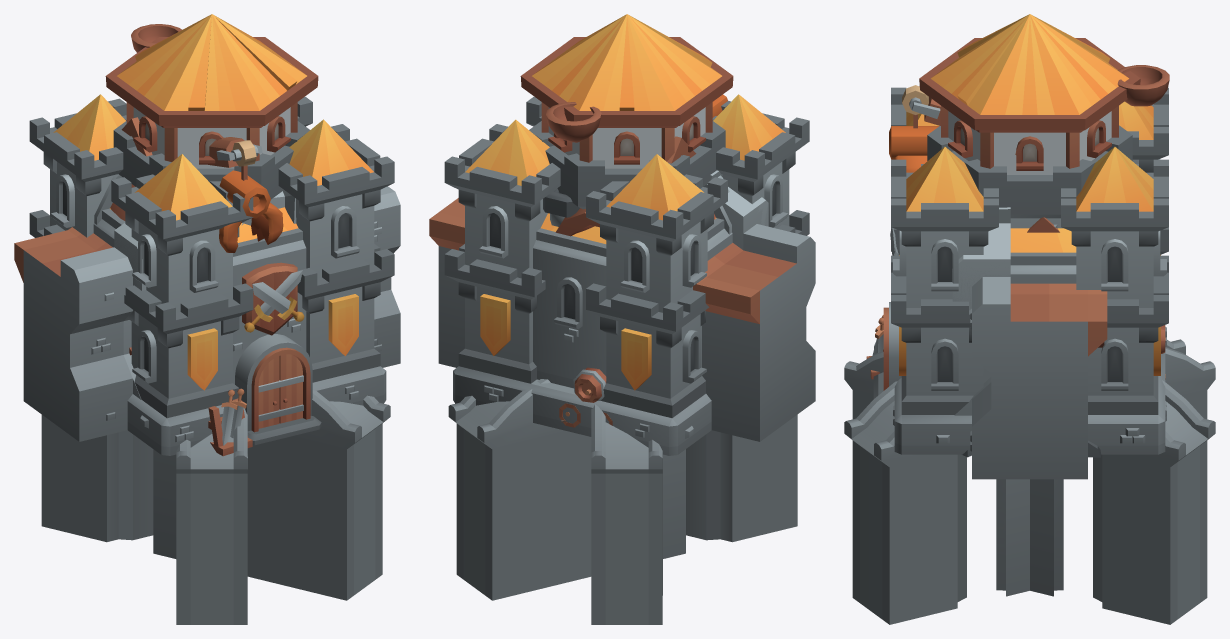
The model's file is buildings.glb.
3 renders of one model, left to right at view 1: azimuth 30°, elevation 25°; view 2: azimuth 150°, elevation 25°; view 3: azimuth 270°, elevation 25°, orthographic. The views are drawn at different scales.
Visible parts, largest first — view 1: building_barracks_yellow, building_bridge_A, building_tower_A_top_yellow, wall_straight_gate, building_bridge_B, wall_straight, building_lumbermill_top_yellow, building_tower_A_yellow, building_lumbermill_top_blue, catapult_arm_yellow, building_tavern_yellow; view 2: building_barracks_yellow, building_bridge_B, building_tower_A_top_yellow, wall_straight_gate, building_bridge_A, wall_straight, building_tower_A_yellow, building_tavern_yellow, catapult_arm_blue, building_home_B_yellow, building_lumbermill_top_blue, catapult_arm_yellow; view 3: building_barracks_yellow, building_bridge_A, building_bridge_B, wall_straight, building_tower_A_top_yellow, wall_straight_gate, building_tower_A_yellow, building_lumbermill_top_yellow, building_lumbermill_top_blue, catapult_arm_yellow, catapult_arm_blue.
Boxes of the visible parts, x1,y1,x2,y2 form: building_barracks_yellow: [29, 94, 394, 456]; building_bridge_A: [41, 390, 390, 600]; building_tower_A_top_yellow: [105, 14, 318, 168]; wall_straight_gate: [14, 190, 400, 441]; building_bridge_B: [176, 408, 247, 624]; wall_straight: [14, 186, 394, 441]; building_lumbermill_top_yellow: [122, 117, 283, 252]; building_tower_A_yellow: [113, 121, 309, 225]; building_lumbermill_top_blue: [122, 119, 265, 247]; catapult_arm_yellow: [132, 24, 181, 52]; building_tavern_yellow: [94, 174, 135, 224]; building_barracks_yellow: [444, 94, 809, 455]; building_bridge_B: [448, 379, 797, 600]; building_tower_A_top_yellow: [520, 14, 733, 168]; wall_straight_gate: [429, 170, 813, 441]; building_bridge_A: [591, 404, 662, 624]; wall_straight: [430, 198, 815, 441]; building_tower_A_yellow: [529, 121, 725, 209]; building_tavern_yellow: [555, 175, 731, 427]; catapult_arm_blue: [546, 102, 597, 142]; building_home_B_yellow: [543, 188, 579, 226]; building_lumbermill_top_blue: [667, 94, 727, 163]; catapult_arm_yellow: [546, 102, 601, 135]; building_barracks_yellow: [866, 87, 1168, 454]; building_bridge_A: [844, 339, 1215, 624]; building_bridge_B: [844, 342, 1215, 624]; wall_straight: [952, 259, 1107, 479]; building_tower_A_top_yellow: [919, 14, 1140, 174]; wall_straight_gate: [952, 207, 1107, 479]; building_tower_A_yellow: [927, 125, 1132, 228]; building_lumbermill_top_yellow: [889, 85, 940, 172]; building_lumbermill_top_blue: [891, 85, 940, 172]; catapult_arm_yellow: [1117, 65, 1165, 106]; catapult_arm_blue: [1119, 65, 1169, 106].
Bounding box in the file's own units: 2 × 3.19 × 1.92.
1 material, 1 textured.
